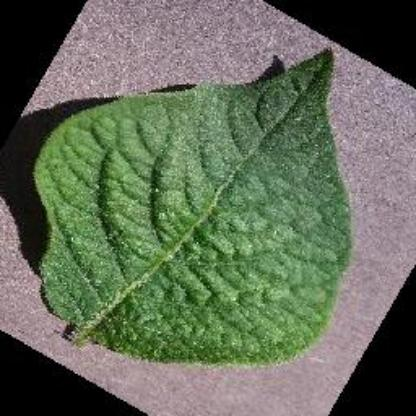Healthy-plant: (25, 41, 365, 370)
